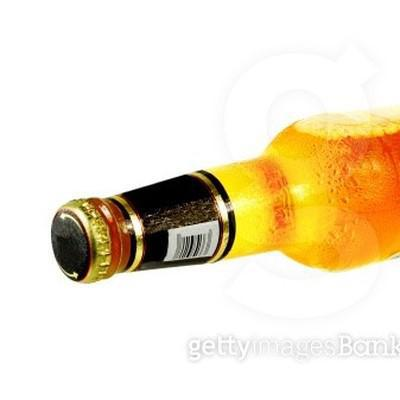beer: (51, 112, 400, 285)
